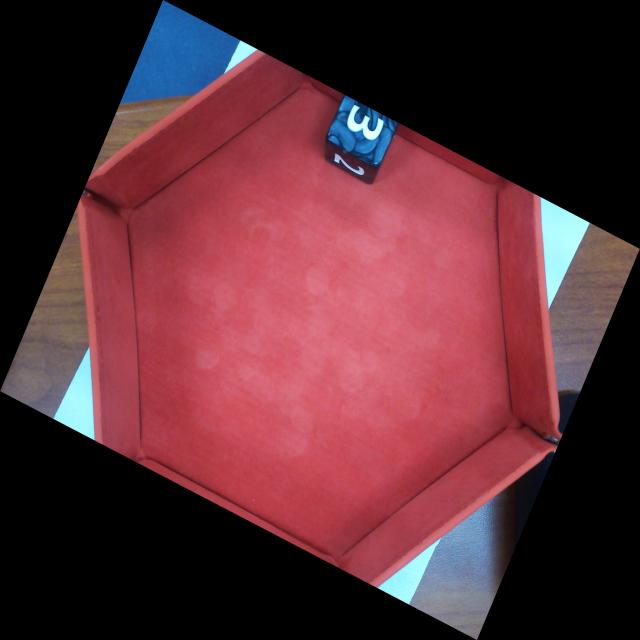dice: (327, 95, 399, 166)
